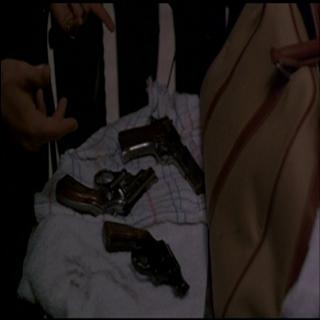gun: (116, 80, 222, 190), (100, 216, 190, 300), (55, 155, 160, 217)
